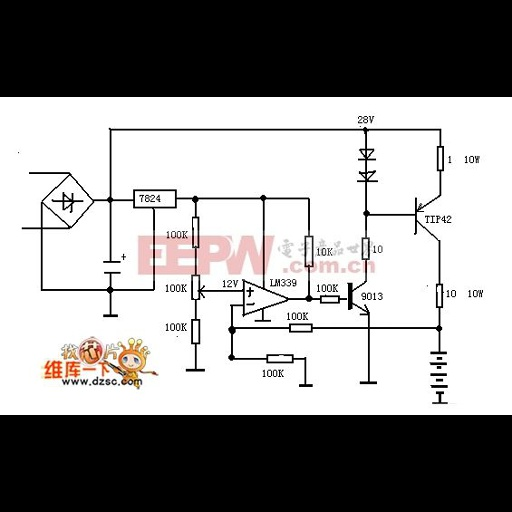amplifier: (239, 277, 288, 316)
battery: (421, 344, 459, 397)
firstpolarcapacitor: (101, 251, 128, 280)
firstresistance: (189, 212, 207, 251), (300, 231, 316, 270), (284, 321, 320, 338), (262, 351, 297, 366), (430, 278, 445, 312), (189, 315, 203, 349), (360, 234, 372, 267), (434, 140, 446, 173), (316, 291, 342, 306)
pnp: (404, 188, 449, 246)
seconddiode: (351, 141, 382, 163), (351, 170, 387, 184)
